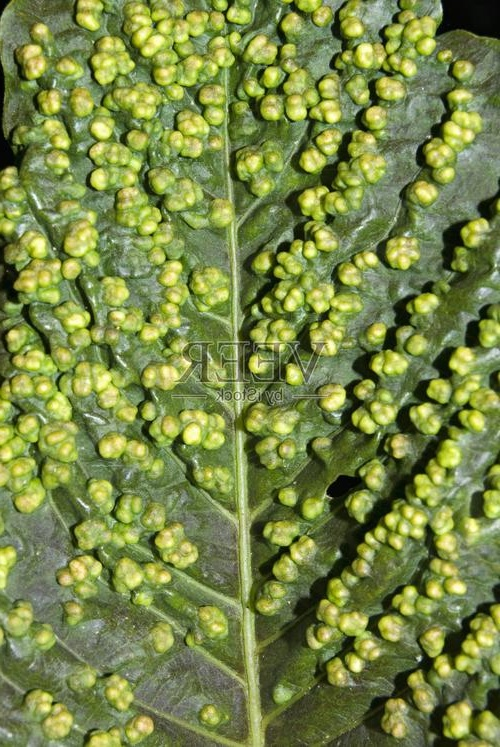Gall_Mite: (4, 15, 255, 747), (265, 3, 484, 742)
